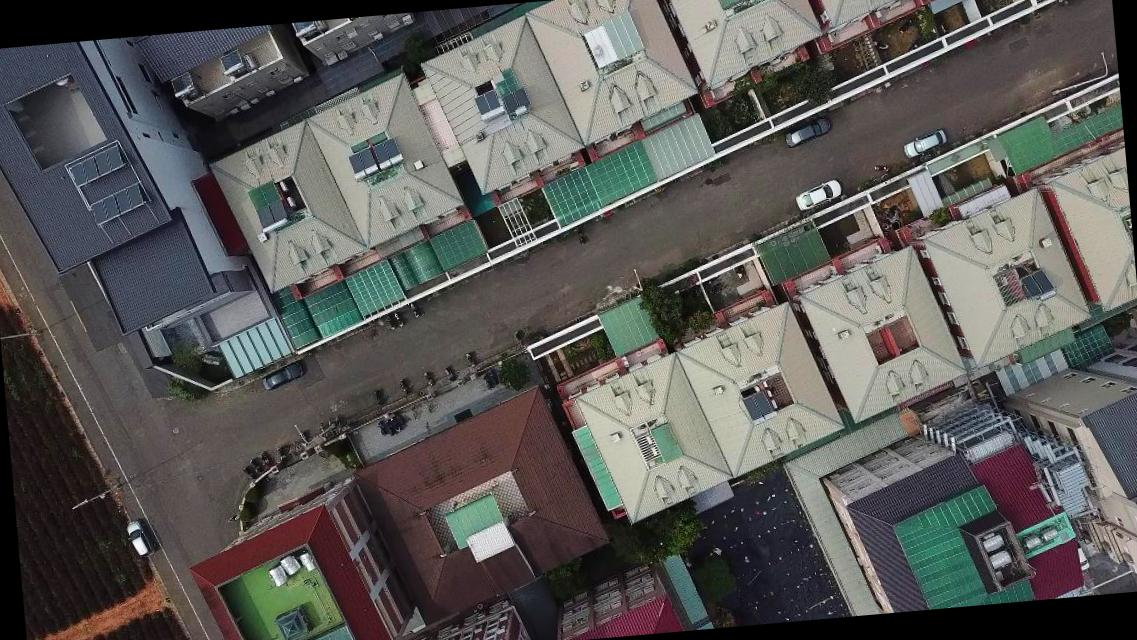vehicle: (782, 114, 834, 148), (792, 178, 845, 210), (259, 360, 307, 393), (899, 130, 948, 160), (124, 520, 154, 560)
